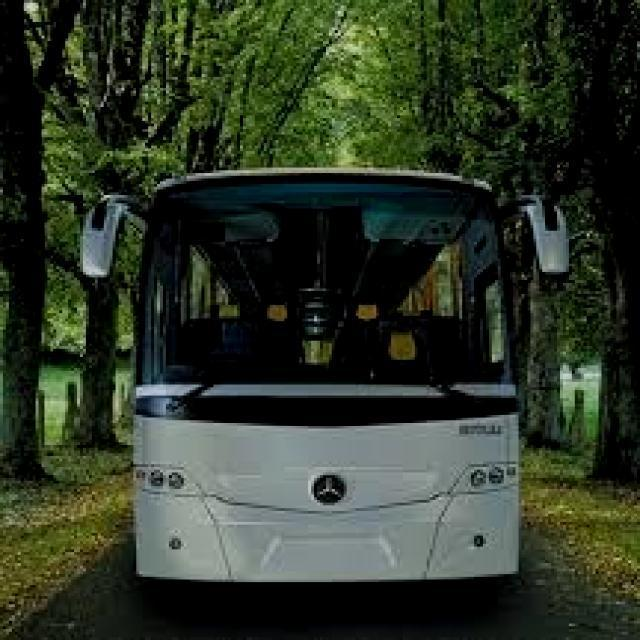Bus: (64, 149, 580, 606)
